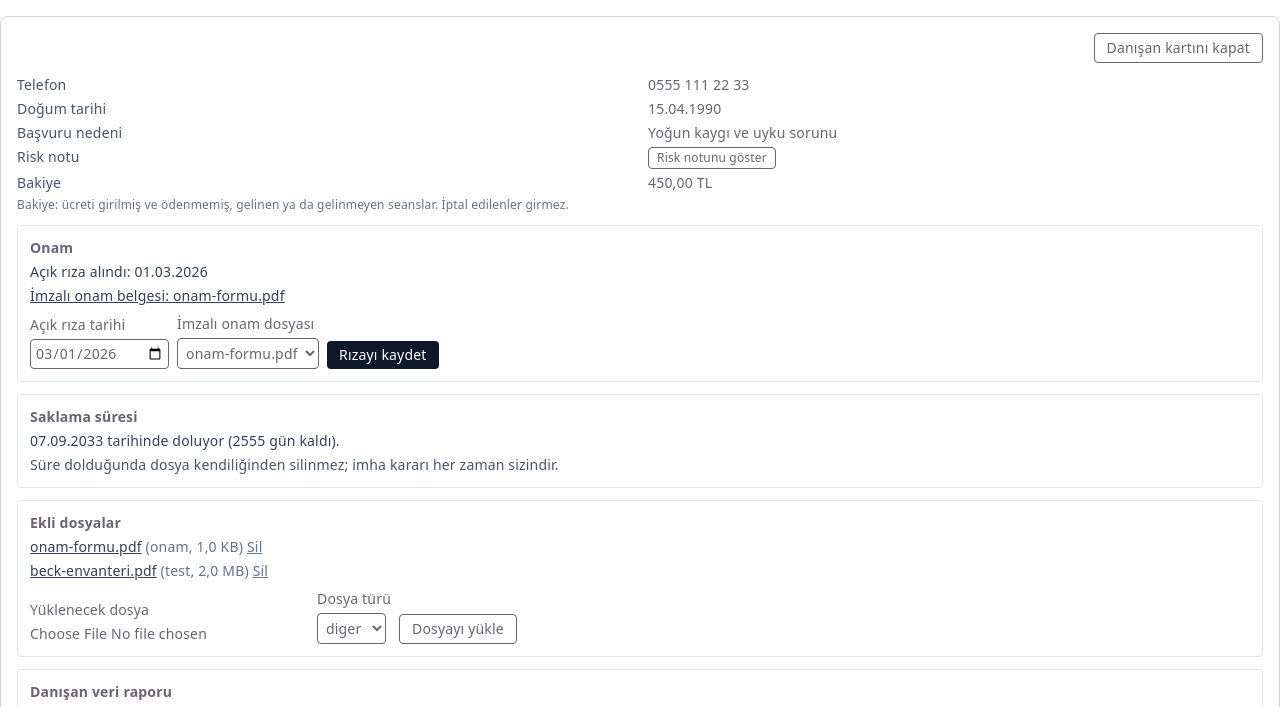
Scenario: DosyaBilgileri — kimlik ve bağlam › istenince acilir ve tekrar kapanir
Click the button "Risk notunu göster": [712, 158] box [648,147,776,169]
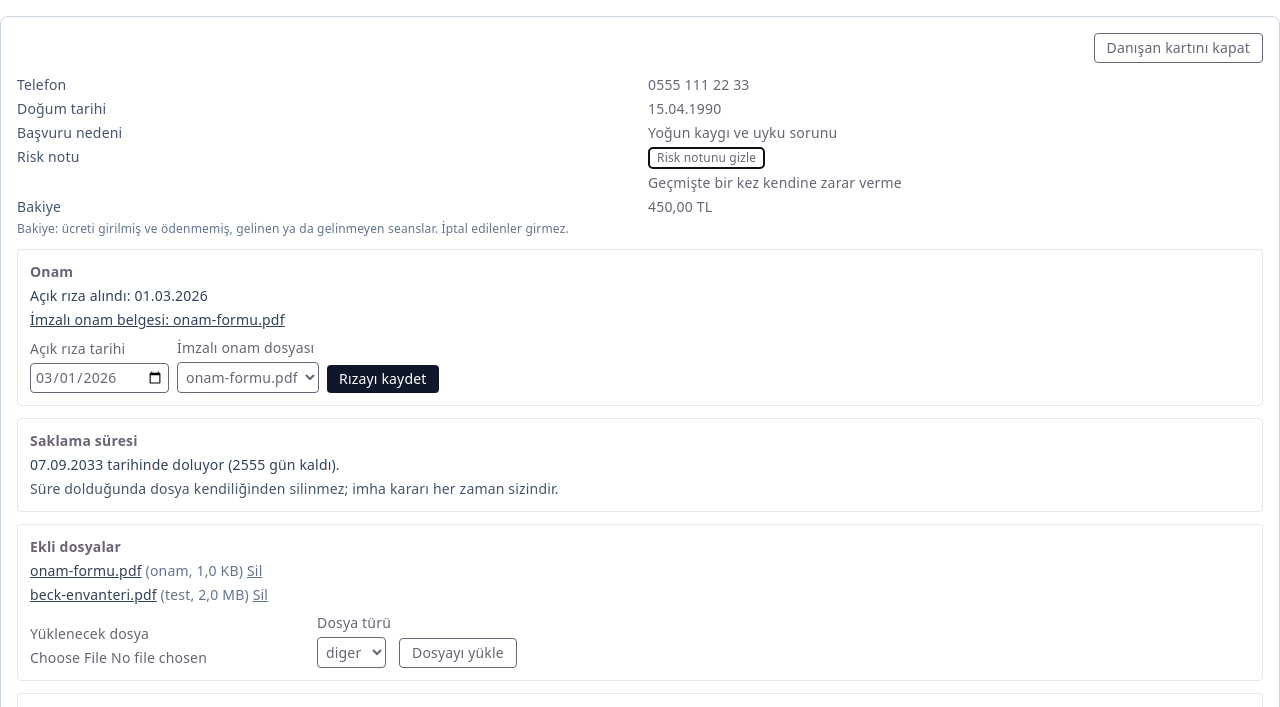
Expected: the text "Geçmişte bir kez kendine zarar verme" is shown, [648,173,902,192]
Click the button "Risk notunu gizle": [707, 158] box [648,147,765,169]
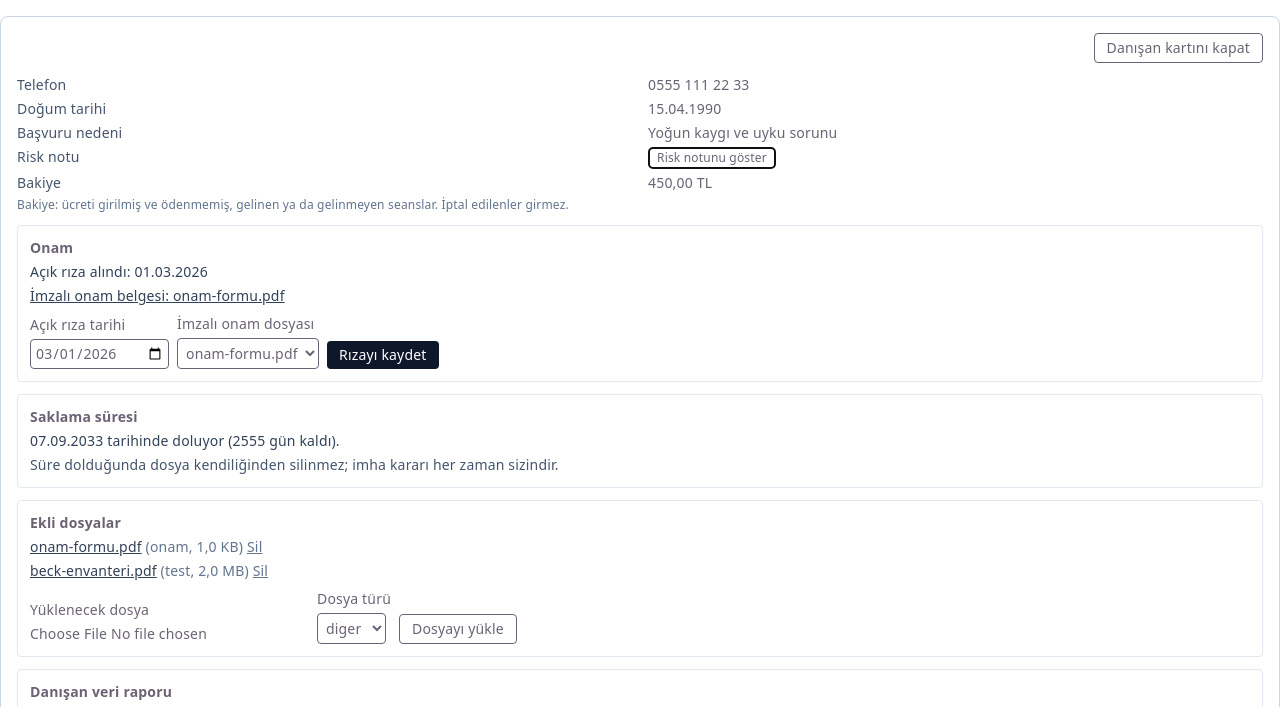
Expected: the text "Geçmişte bir kez kendine zarar verme" is gone
